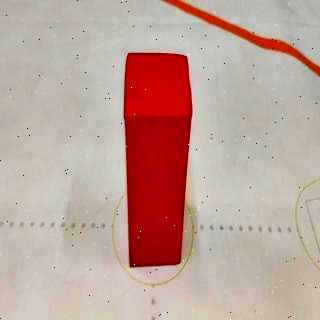redbox: (124, 50, 194, 268)
